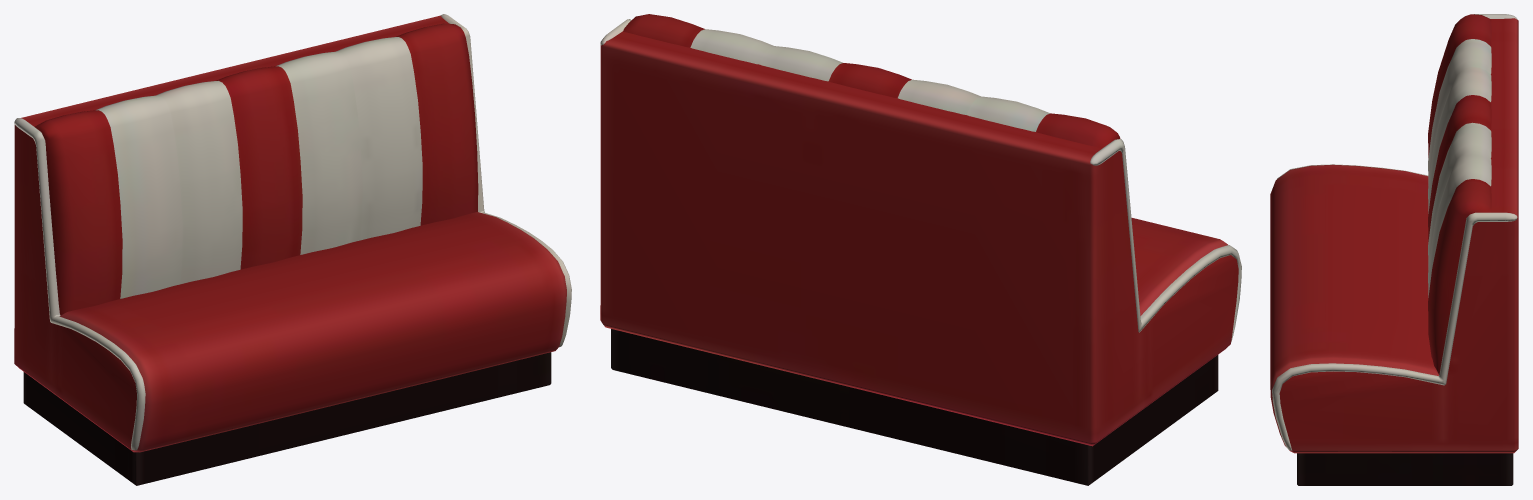
The picture shows the model from 3 angles, left to right: view 1: azimuth 30°, elevation 25°; view 2: azimuth 150°, elevation 25°; view 3: azimuth 270°, elevation 25°; orthographic projection. The views are drawn at different scales.
Size of the model in its own units: 17.44 by 11.38 by 9.05.
Materials: 1 (1 with a texture image).
